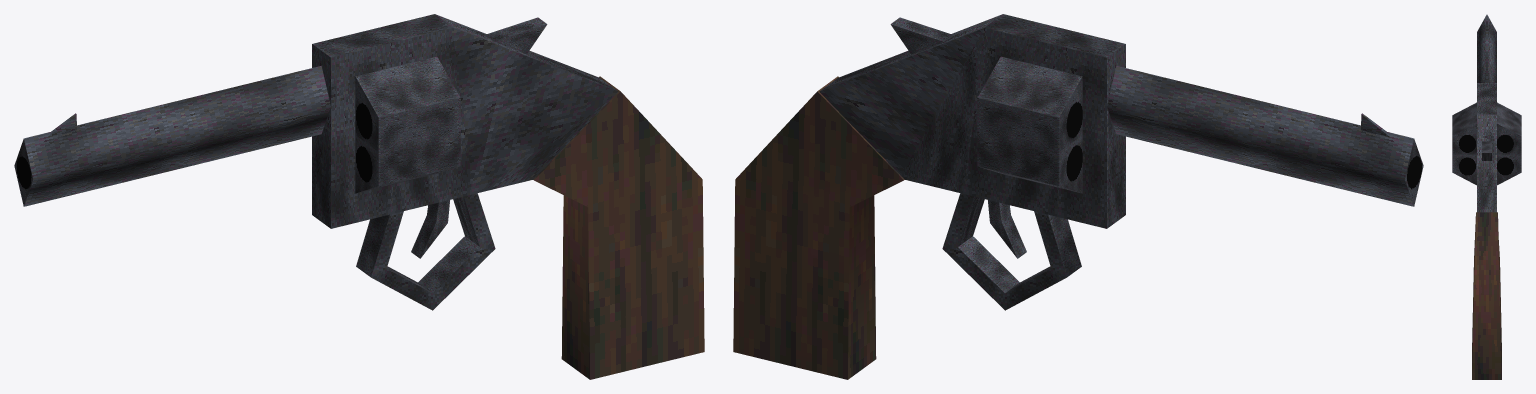
The model's file is revolver noir.fbx.
The picture shows the model from 3 angles, left to right: view 1: azimuth 30°, elevation 25°; view 2: azimuth 150°, elevation 25°; view 3: azimuth 270°, elevation 25°; orthographic projection. The views are drawn at different scales.
Parts seen in each view (by area): view 1: Revolver noir; view 2: Revolver noir; view 3: Revolver noir.
Part boxes in pixels (bbox=[...]): Revolver noir: bbox=[14, 14, 704, 379]; Revolver noir: bbox=[733, 14, 1423, 379]; Revolver noir: bbox=[1452, 14, 1521, 379].
Bounding box in the file's own units: 40.75 × 22.25 × 6.93.
